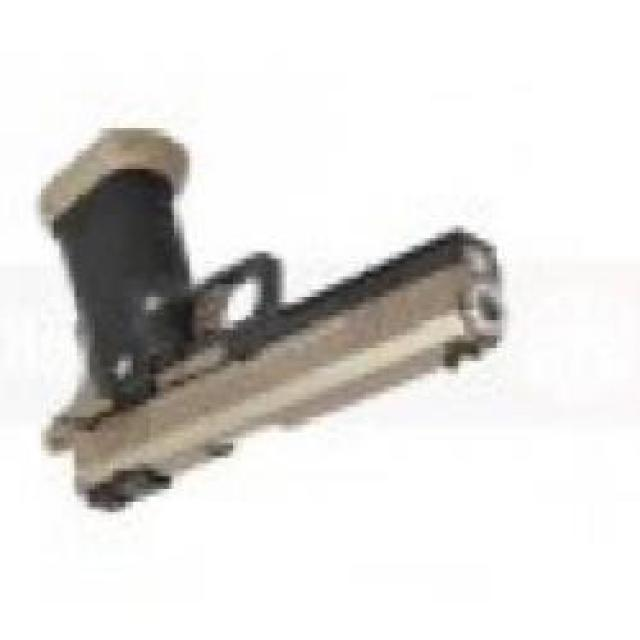pistol: (31, 123, 520, 520)
